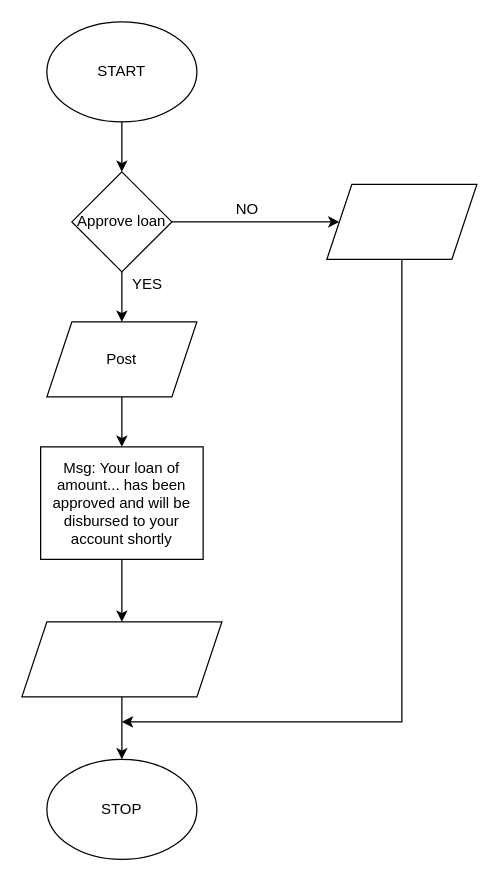
Some shapes in this 499 by 881 pixel diagram are drawn without their labels. Here are the shapes that lost their labels. From the top down, the centre of each, then its label:
At point 401,221: "Error loan not approved".
At point 121,659: "Disburse to account".
